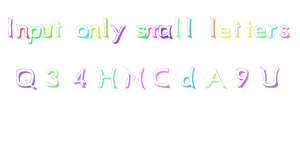3: (45, 67, 59, 88)
4: (72, 67, 87, 89)
9: (235, 67, 250, 89)
A: (204, 66, 228, 90)
C: (153, 67, 170, 89)
H: (97, 65, 118, 90)
I: (4, 15, 20, 40)
N: (123, 65, 145, 89)
Q: (15, 68, 37, 90)
U: (260, 66, 280, 87)
a: (158, 24, 173, 38)
d: (180, 65, 197, 89)
e: (217, 23, 231, 39), (254, 25, 267, 39)
l: (184, 16, 194, 39), (102, 16, 110, 39), (209, 16, 217, 39), (174, 16, 181, 39)
m: (144, 24, 163, 38)
n: (15, 23, 29, 39), (88, 24, 102, 39)
o: (75, 24, 89, 38)
p: (27, 24, 42, 44)
r: (268, 24, 278, 39)
s: (135, 24, 147, 38), (279, 24, 291, 38)
t: (232, 20, 242, 39), (54, 18, 62, 39), (244, 20, 253, 38)
u: (39, 24, 53, 38)
y: (109, 23, 127, 44)
